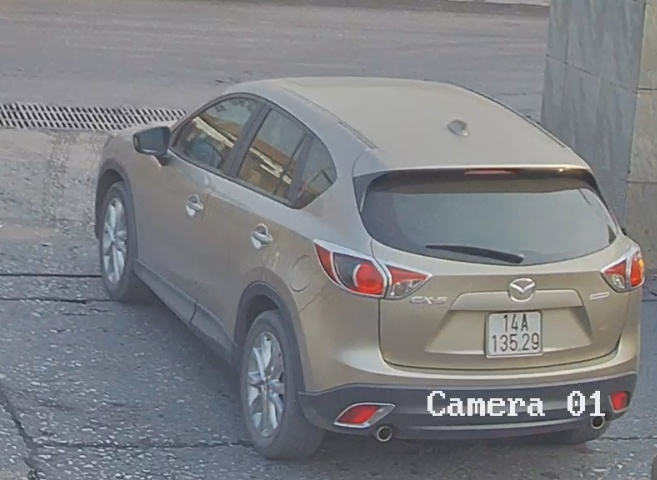vehicle plate: (481, 306, 550, 360)
